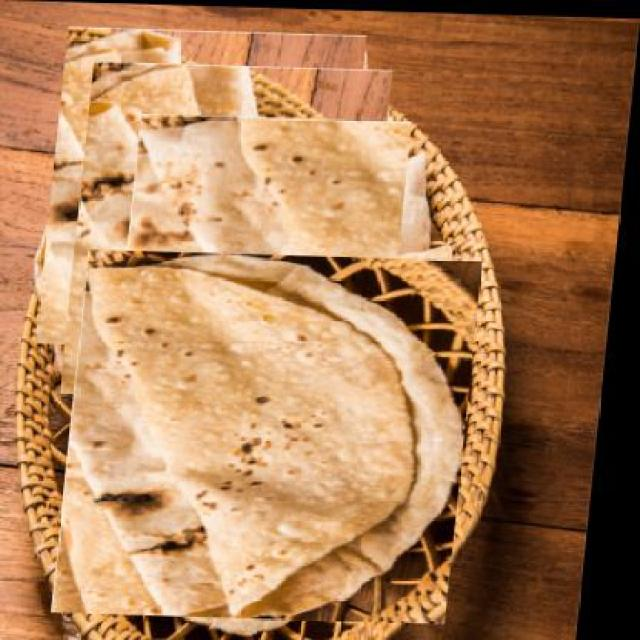chapati: (72, 241, 483, 630), (59, 70, 404, 395), (38, 31, 373, 349), (102, 128, 430, 438)
